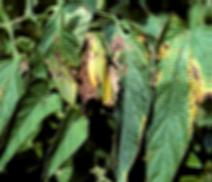Tomato leaf bacterial spot: (147, 11, 212, 182), (108, 22, 156, 182), (42, 9, 80, 111), (0, 50, 30, 168)
